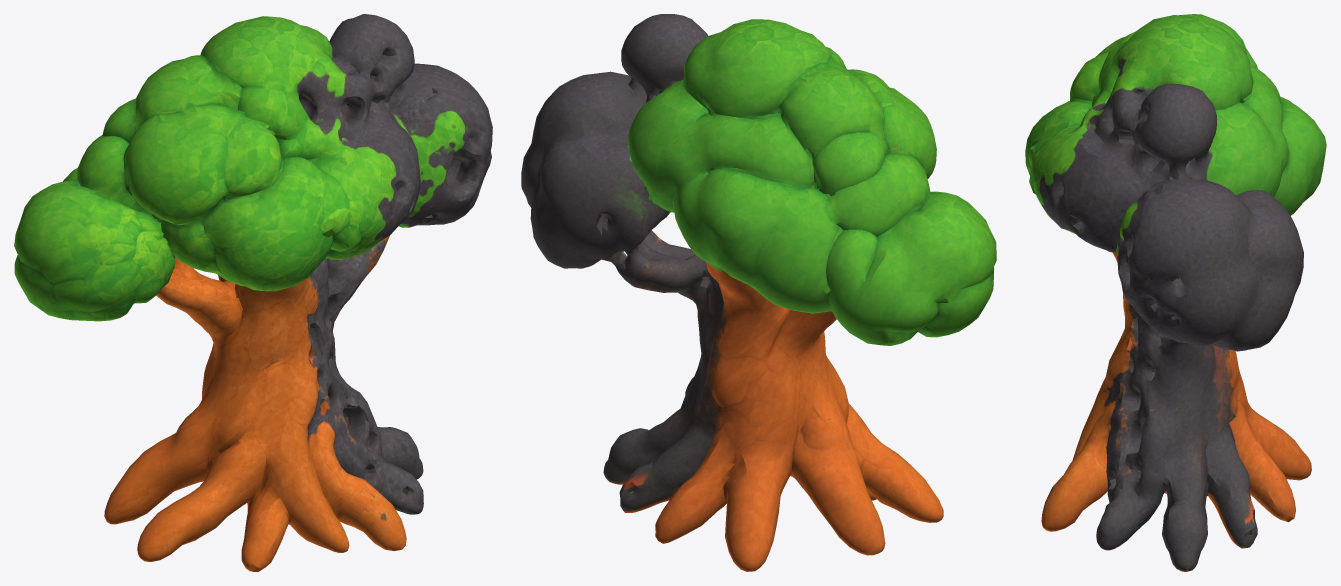
Rendered from mother-puff-semi-tree.glb.
3 views of the same model, side by side, from view 1: azimuth 30°, elevation 25°; view 2: azimuth 150°, elevation 25°; view 3: azimuth 270°, elevation 25° (orthographic). The views are drawn at different scales.
Visible parts, largest first — view 1: Mesh_0; view 2: Mesh_0; view 3: Mesh_0.
Part boxes in pixels (left/top/right/bottom): Mesh_0: left=14, top=14, right=492, bottom=571; Mesh_0: left=521, top=14, right=996, bottom=571; Mesh_0: left=1025, top=14, right=1326, bottom=571.
Size of the model in its own units: 1.85 by 1.9 by 1.08.
Materials: 1 (1 with a texture image).
